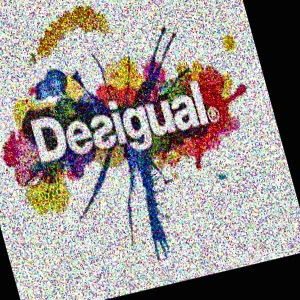desigual: (156, 6, 239, 144)
